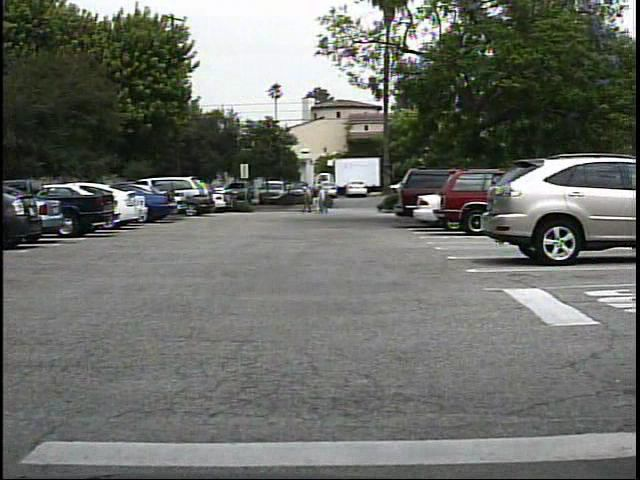person: (315, 185, 332, 215), (300, 185, 315, 215), (311, 186, 324, 216)
